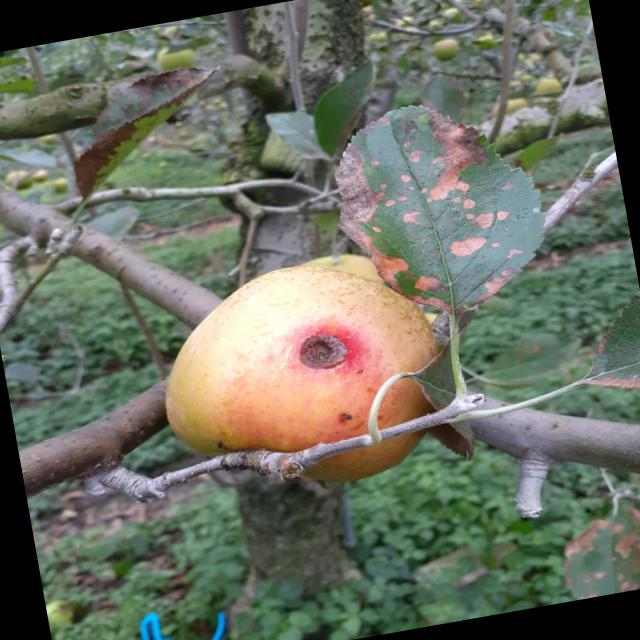rotten: (130, 229, 501, 521)
